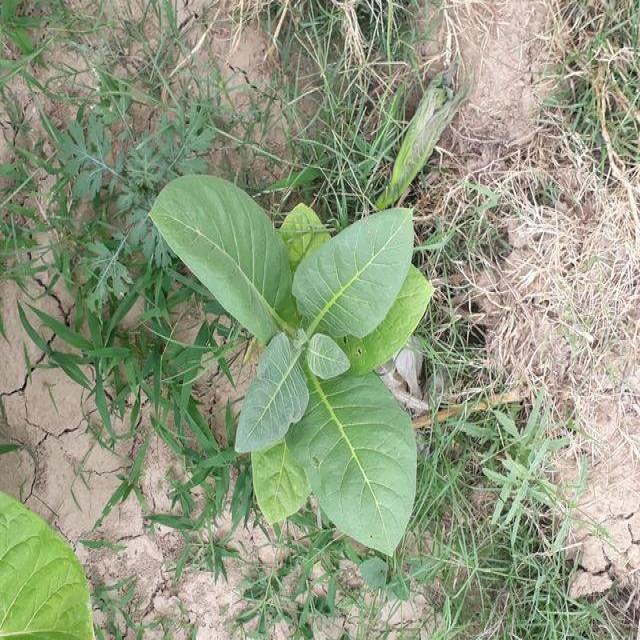crop: (146, 171, 436, 557)
